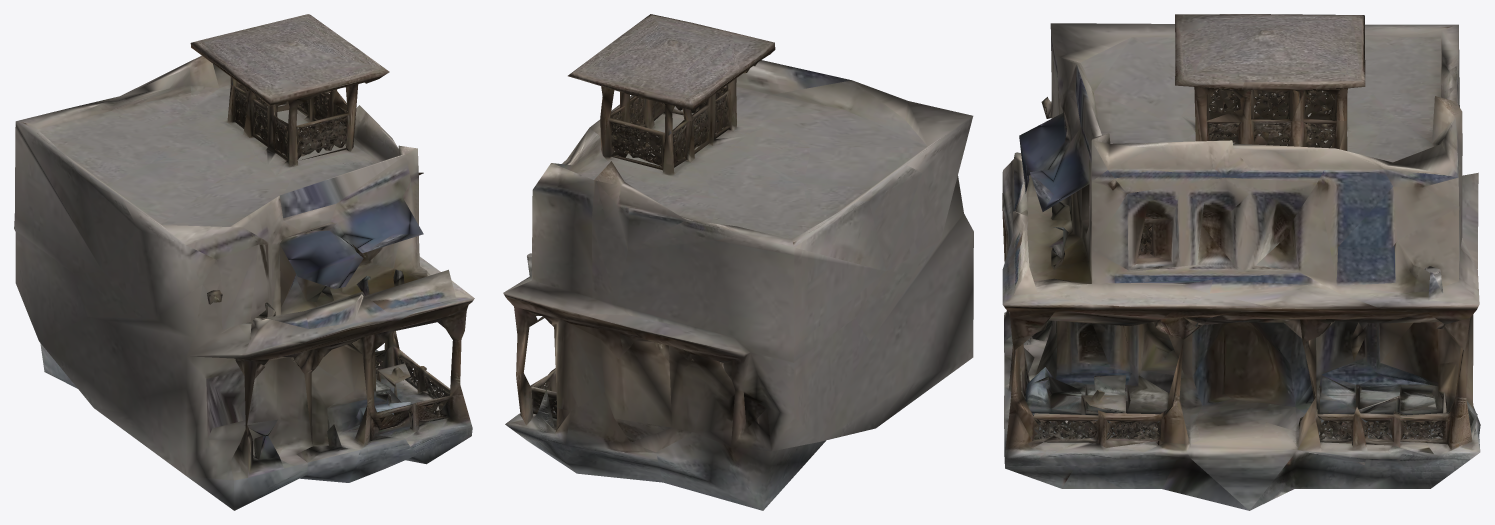
File: tavern_1.glb
The picture shows the model from 3 angles, left to right: view 1: azimuth 30°, elevation 25°; view 2: azimuth 150°, elevation 25°; view 3: azimuth 270°, elevation 25°; orthographic projection. The views are drawn at different scales.
Parts seen in each view (by area): view 1: tripo_node_34c79959-a374-4c1f-93ec-f5d1e5361122; view 2: tripo_node_34c79959-a374-4c1f-93ec-f5d1e5361122; view 3: tripo_node_34c79959-a374-4c1f-93ec-f5d1e5361122.
Part boxes in pixels (left/top/right/bottom): tripo_node_34c79959-a374-4c1f-93ec-f5d1e5361122: left=14, top=14, right=474, bottom=510; tripo_node_34c79959-a374-4c1f-93ec-f5d1e5361122: left=503, top=14, right=973, bottom=510; tripo_node_34c79959-a374-4c1f-93ec-f5d1e5361122: left=1002, top=14, right=1480, bottom=510.
Size of the model in its own units: 0.8592 by 0.9368 by 0.9762.
Materials: 1 (1 with a texture image).
